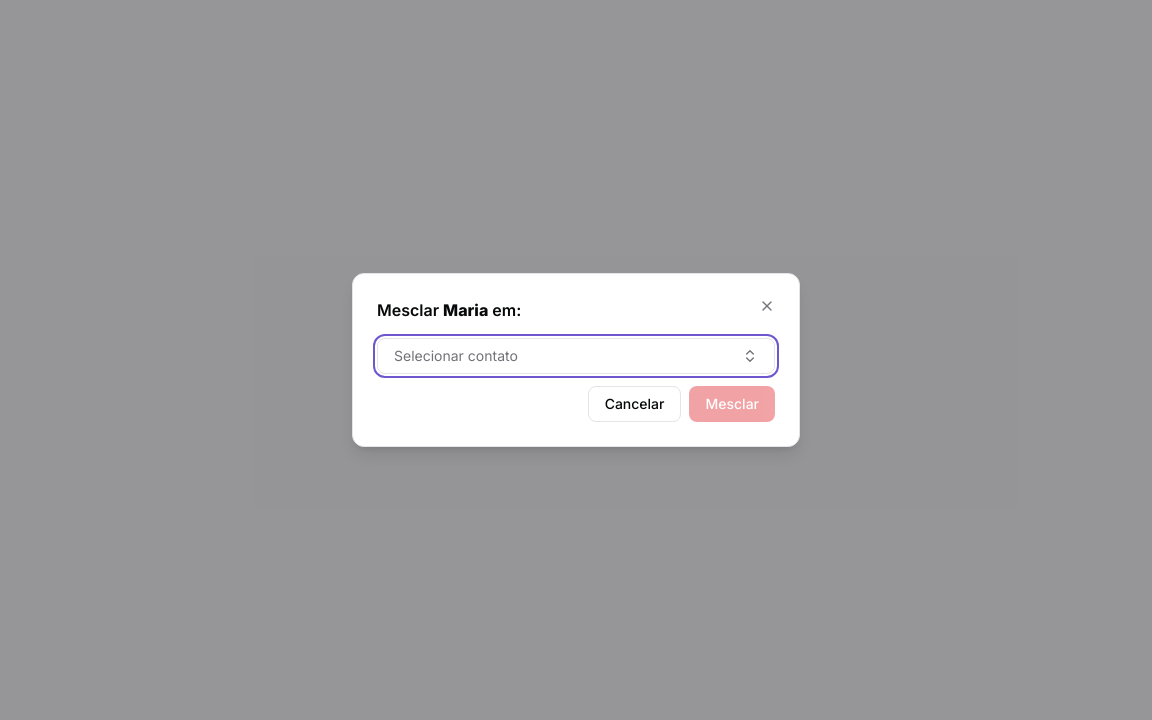
Scenario: MergeContactDialog › shows a 422 under the combobox
Click the dropdown named "Contato que fica" at (456, 356), box [377,338,775,374]
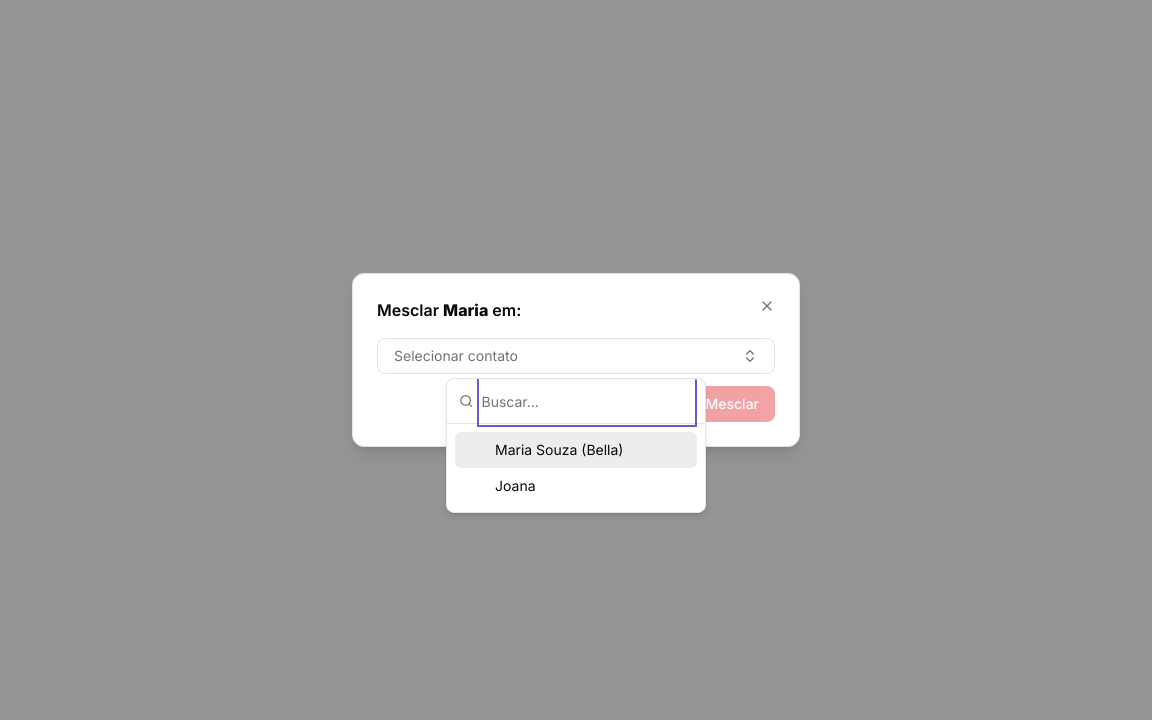
Click the option "Maria Souza (Bella)" at (576, 450), box [455,432,697,468]
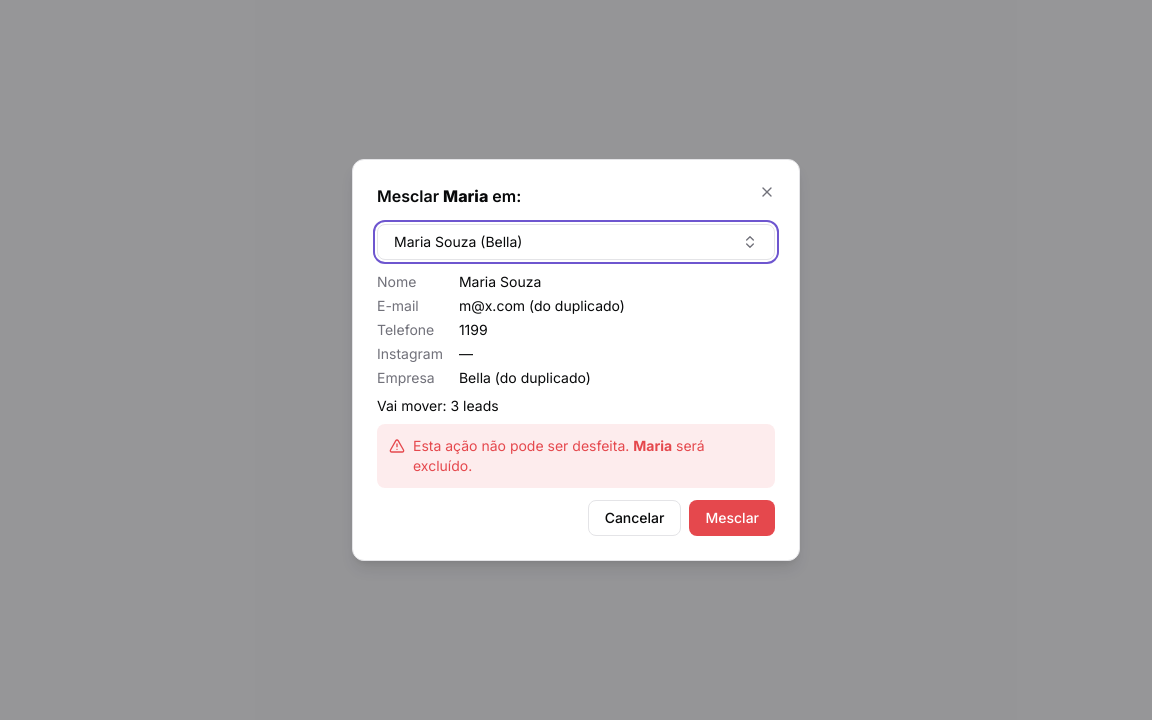
Click the button "Mesclar" at (732, 518), box [690,500,775,536]
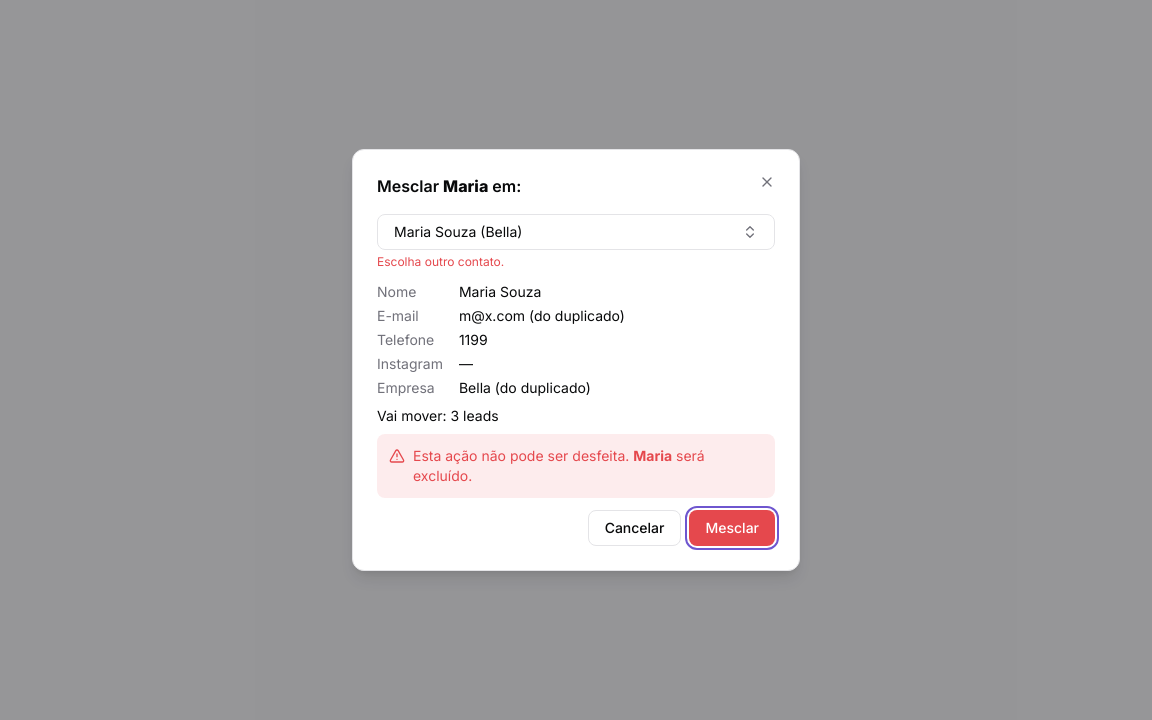
Now the text "Escolha outro contato." is shown, box [377,254,504,269]
